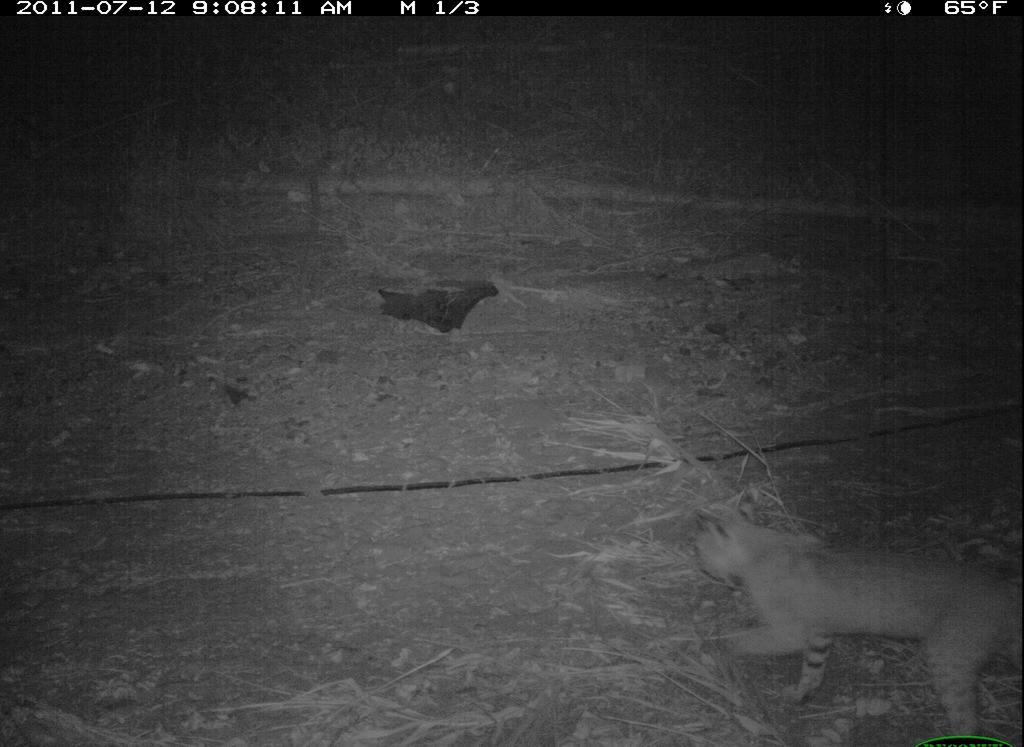bobcat: (679, 493, 1018, 738)
